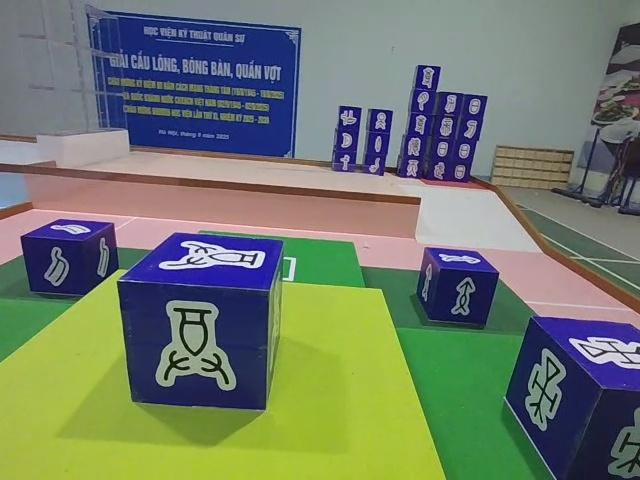R2 Real Blue: (120, 228, 288, 414), (508, 315, 640, 480), (21, 220, 121, 301), (413, 246, 498, 329)
